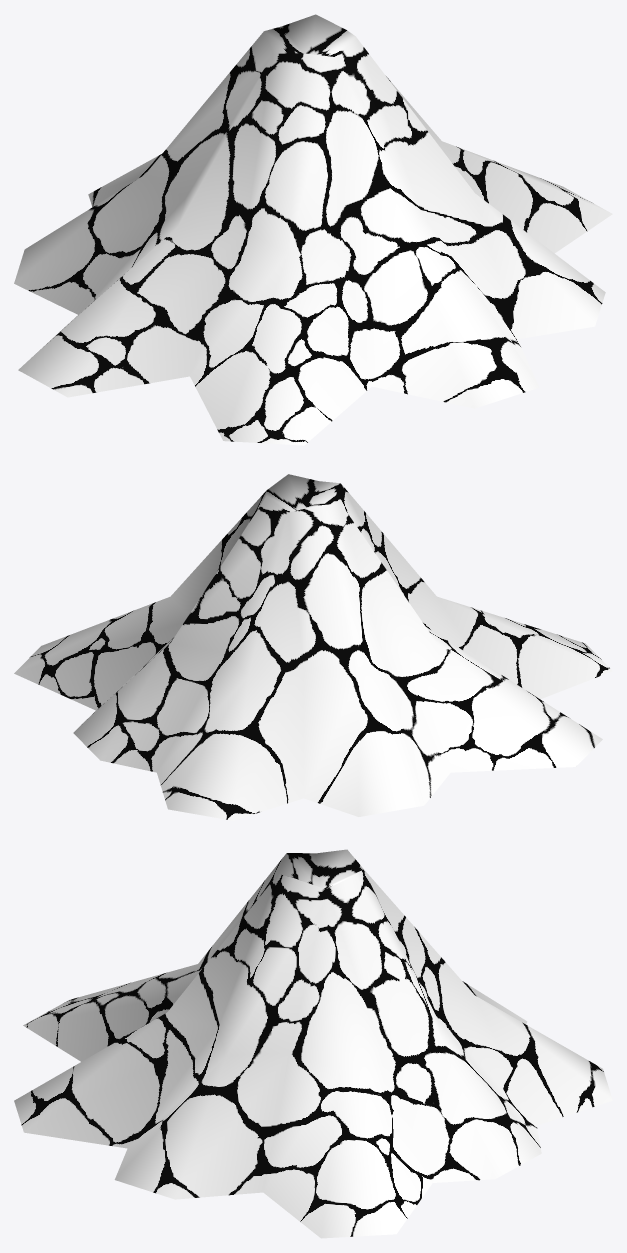
Rendered from Stone_01.fbx.
The picture shows the model from 3 angles, top to bottom: view 1: azimuth 30°, elevation 25°; view 2: azimuth 150°, elevation 25°; view 3: azimuth 270°, elevation 25°; orthographic projection. The views are drawn at different scales.
Parts seen in each view (by area): view 1: Stone_01; view 2: Stone_01; view 3: Stone_01.
Boxes of the visible parts, x1,y1,x2,y2 form: Stone_01: [14, 14, 612, 445]; Stone_01: [14, 474, 612, 820]; Stone_01: [14, 849, 612, 1238].
Size of the model in its own units: 58 by 23.3 by 53.29.
